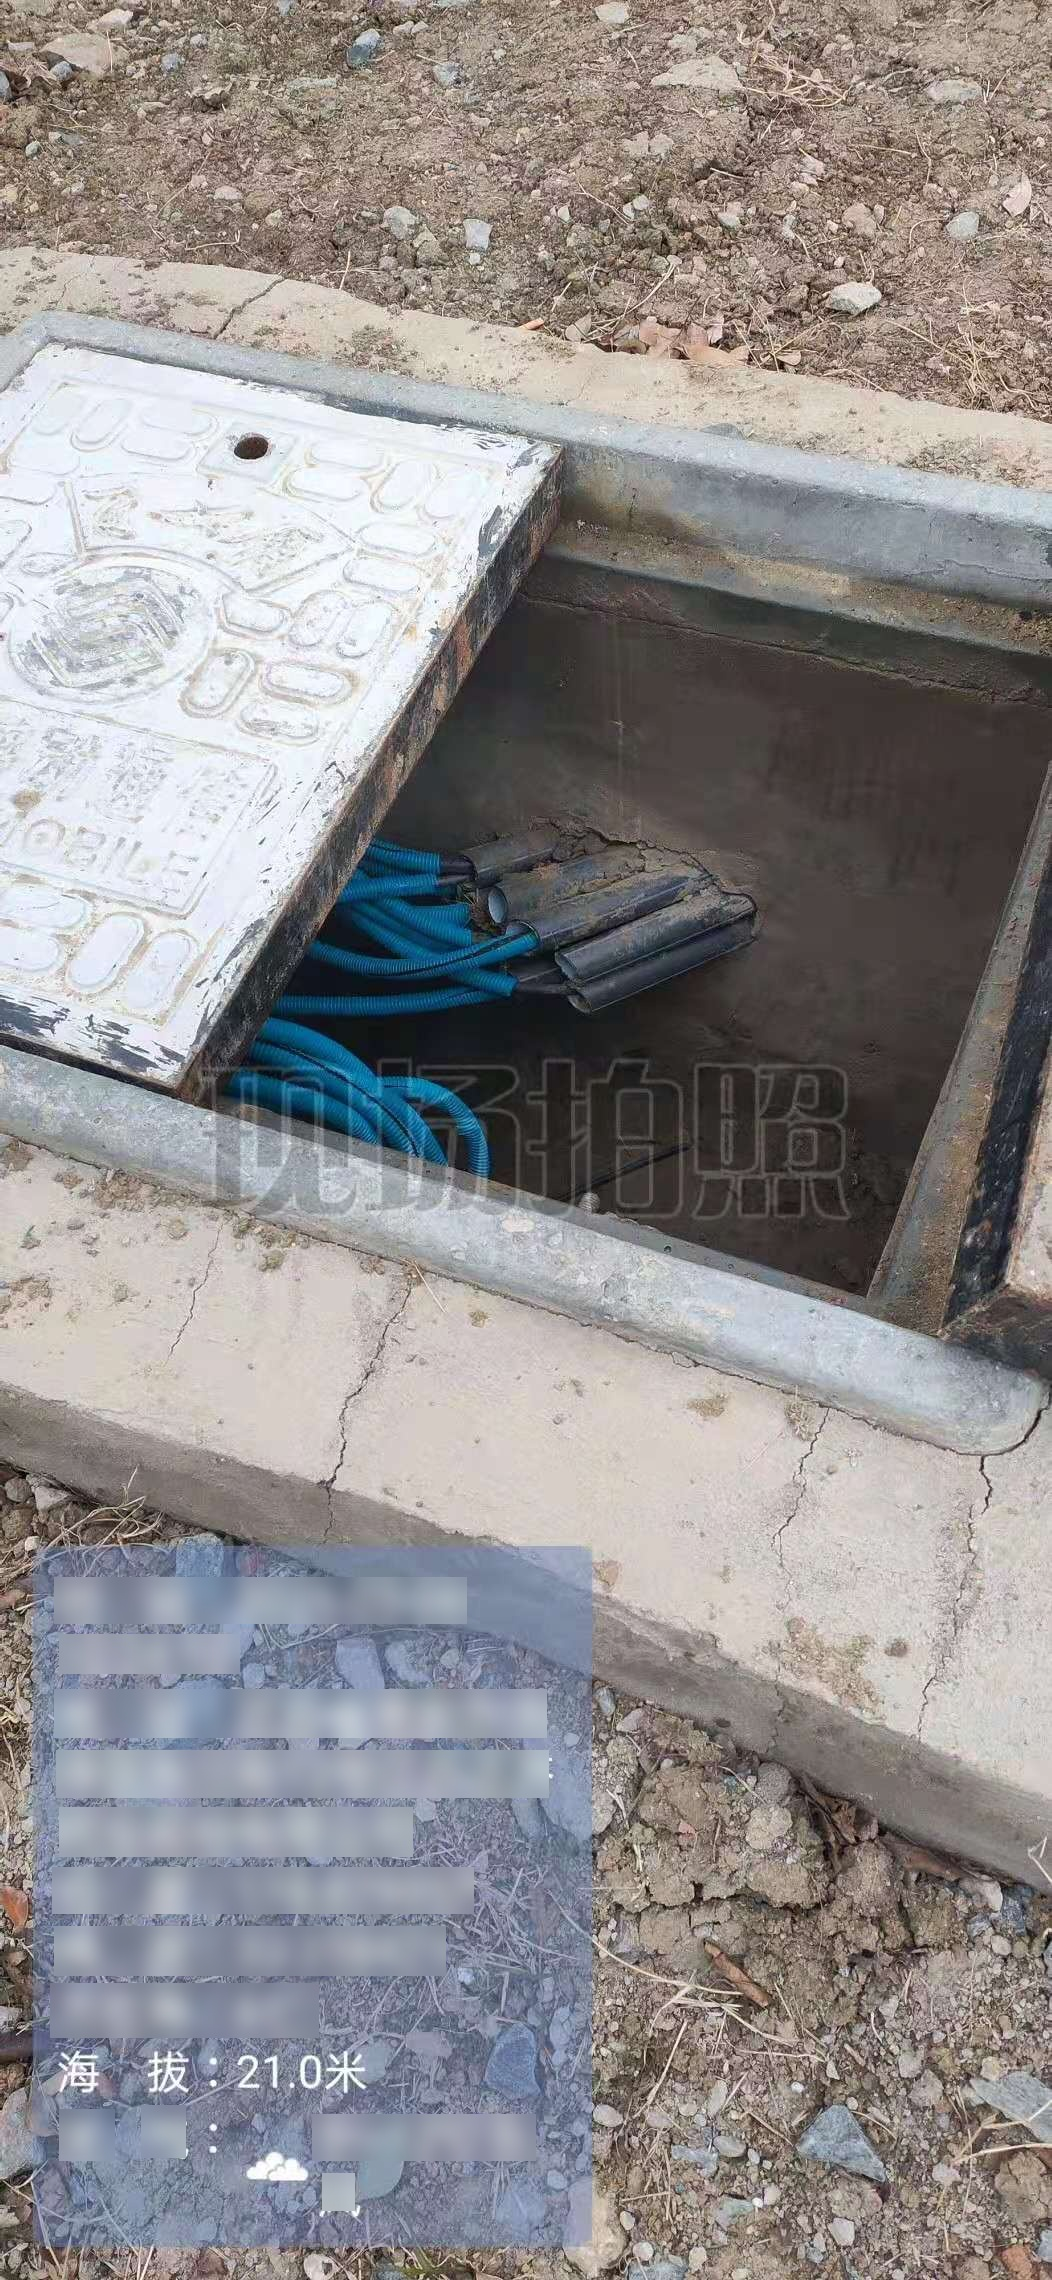lose: (4, 311, 1052, 1437)
